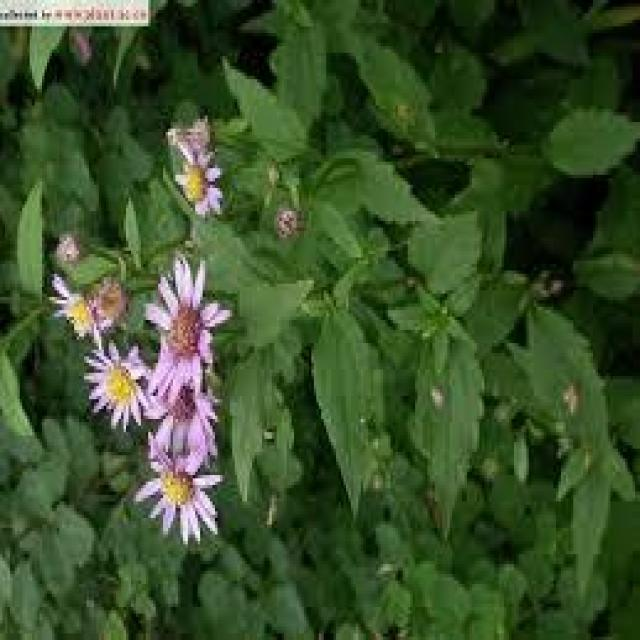organic waste: (138, 262, 228, 401), (150, 430, 228, 566), (87, 335, 158, 424), (51, 262, 110, 352), (173, 137, 227, 216)
